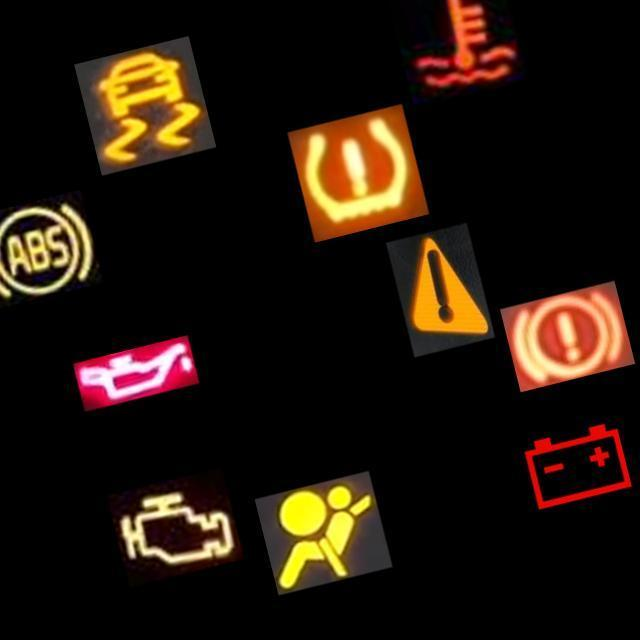Central Warning lamp: (386, 222, 494, 357)
Engine cooling system: (386, 0, 529, 108)
